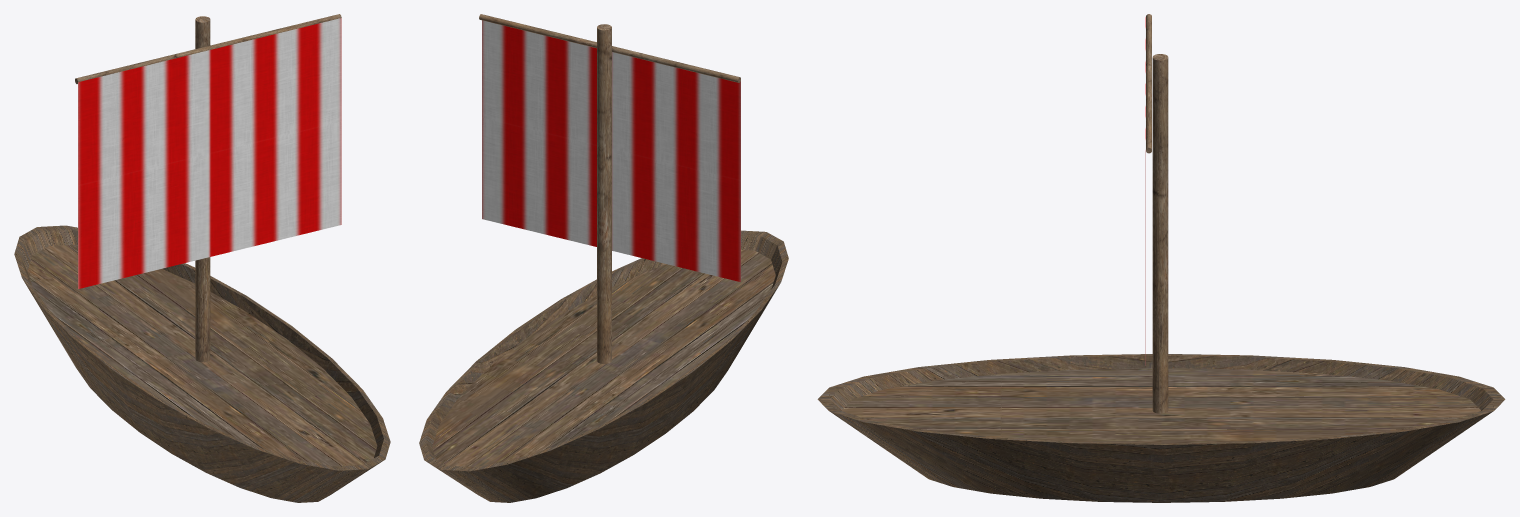
File: boat.FBX
3 renders of one model, left to right at view 1: azimuth 30°, elevation 25°; view 2: azimuth 150°, elevation 25°; view 3: azimuth 270°, elevation 25°, orthographic. The views are drawn at different scales.
Parts seen in each view (by area): view 1: Plane001, Cone001, Cylinder001, Cylinder002; view 2: Cone001, Plane001, Cylinder001, Cylinder002; view 3: Cone001, Cylinder001, Cylinder002.
Part boxes in pixels (x1,y1,x2,y2): Plane001: [78, 18, 341, 288]; Cone001: [14, 225, 390, 502]; Cylinder001: [195, 16, 210, 362]; Cylinder002: [75, 14, 341, 83]; Cone001: [419, 230, 788, 502]; Plane001: [482, 20, 740, 281]; Cylinder001: [597, 24, 611, 363]; Cylinder002: [479, 14, 740, 82]; Cone001: [817, 354, 1505, 502]; Cylinder001: [1152, 54, 1168, 413]; Cylinder002: [1146, 14, 1151, 153].
Bounding box in the file's own units: 20 × 28.85 × 43.49.
3 materials, 3 textured.
